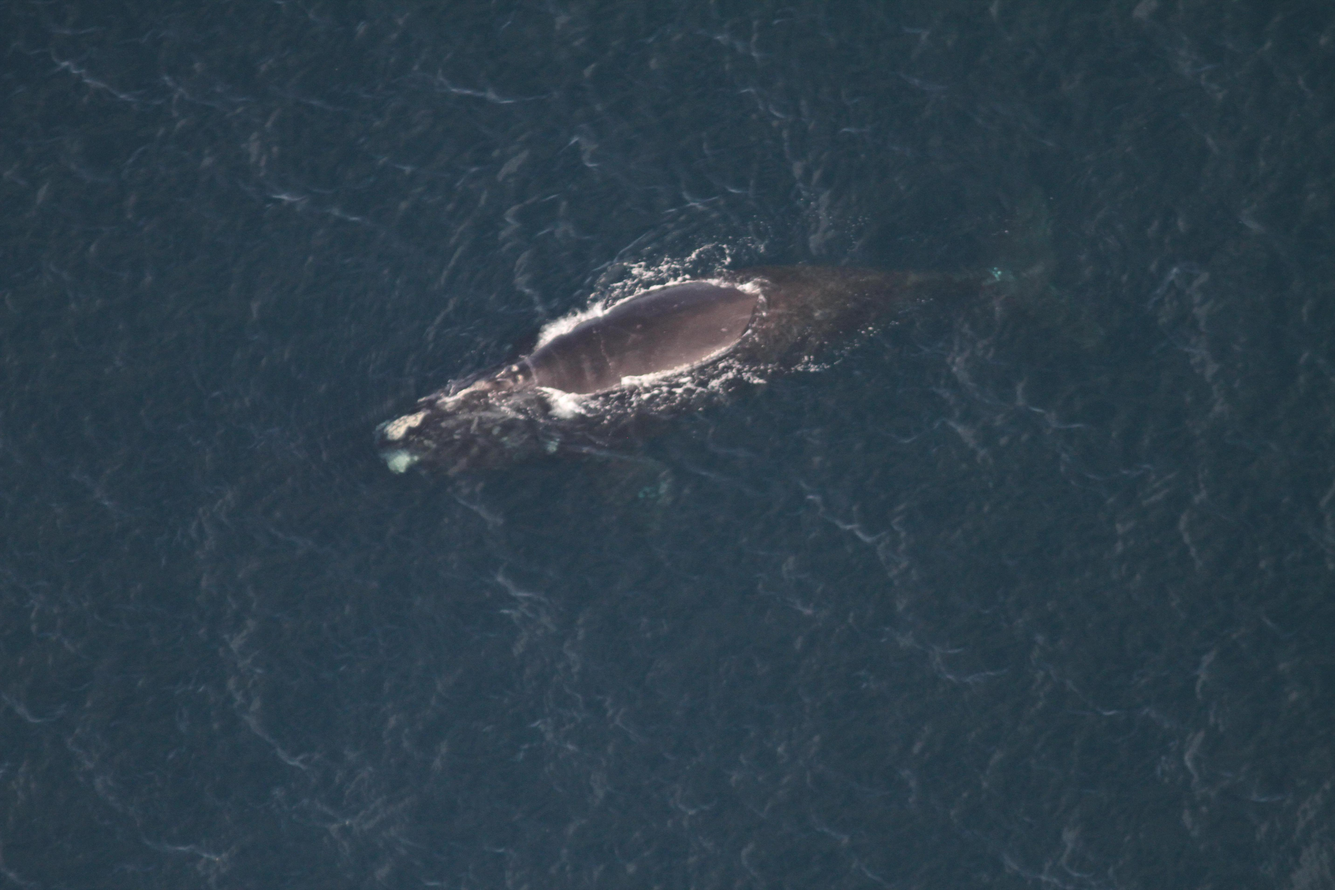whale: (361, 154, 1120, 536)
